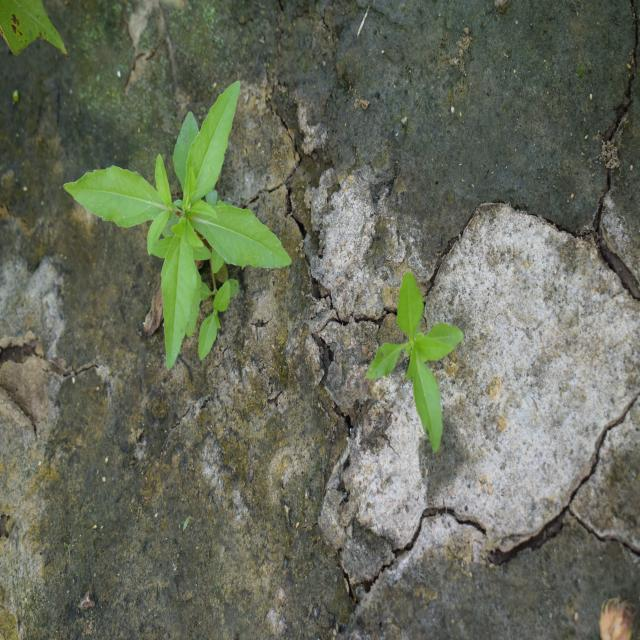Eclipta: (62, 79, 294, 372), (365, 271, 465, 453)
